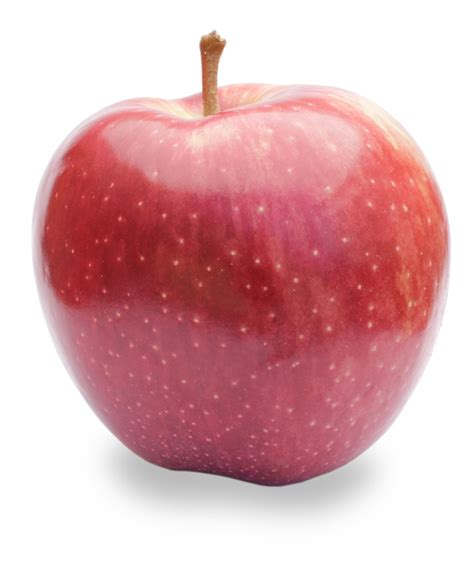apple: (29, 74, 454, 485)
